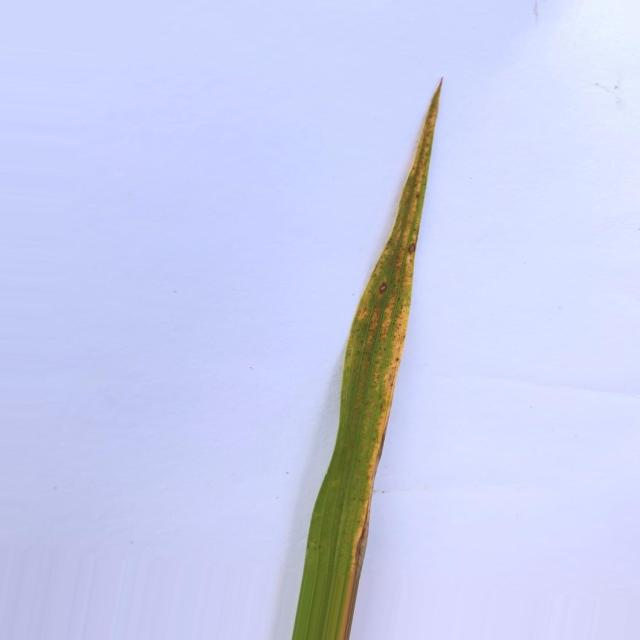Rice Tungro: (293, 84, 441, 639)
